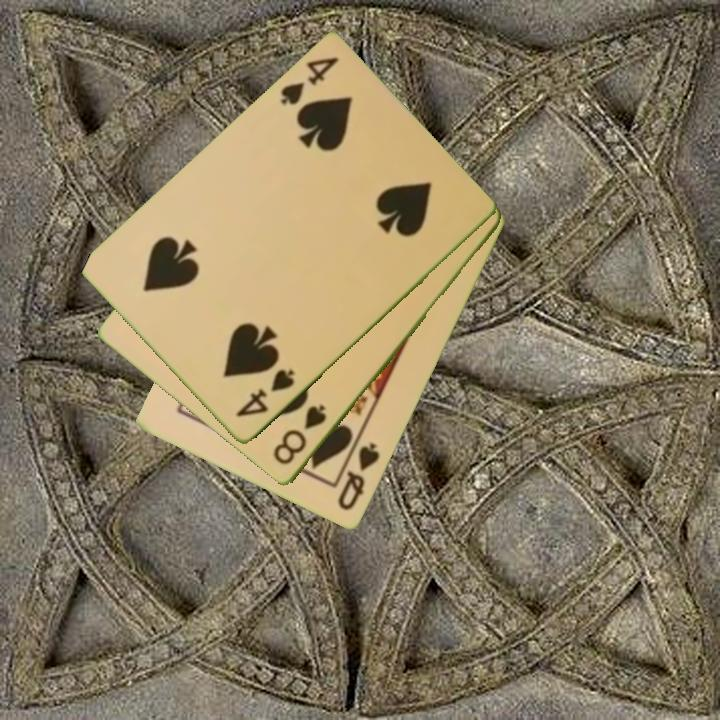4s: (277, 53, 342, 109), (232, 366, 298, 421)
8s: (269, 401, 330, 469)
Qs: (334, 439, 383, 514)
